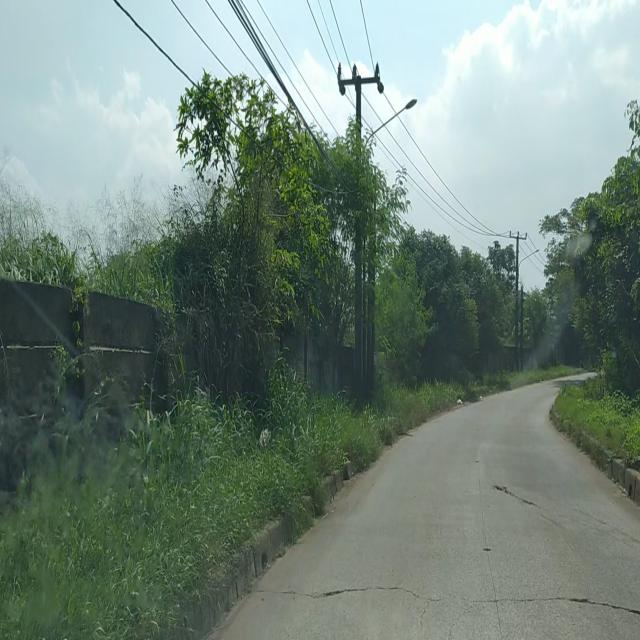Sewer Cover: (303, 574, 640, 617)
